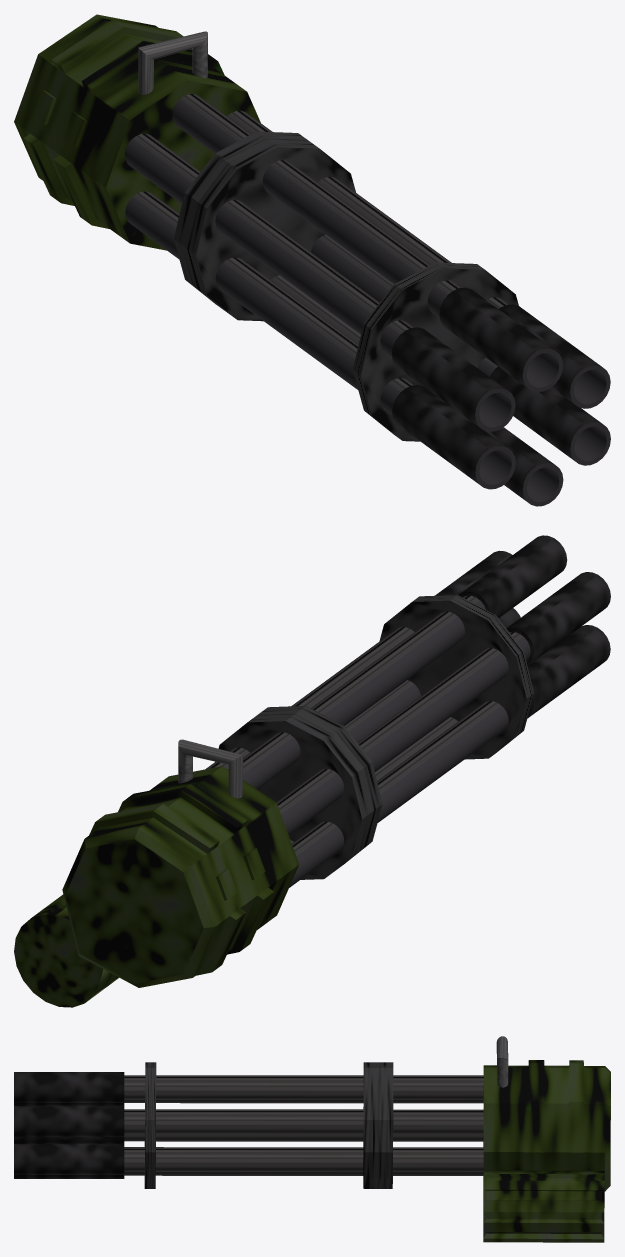
The model's file is Minigun.fbx.
3 views of the same model, one above another, from view 1: azimuth 30°, elevation 25°; view 2: azimuth 150°, elevation 25°; view 3: azimuth 270°, elevation 25° (orthographic). The views are drawn at different scales.
Visible parts, largest first — view 1: Body, Barrel1, Barrel5, Barrel4, FirstSupport, SecondSupport, Barrel3, Barrel2, Barrel6, Handle; view 2: Body, Barrel1, Barrel5, Barrel4, FirstSupport, SecondSupport, Magazine, Barrel2, Barrel3, Handle, Barrel6; view 3: Body, Barrel2, Barrel5, Barrel3, Magazine, FirstSupport, Barrel4, Barrel6, Barrel1, SecondSupport, Handle.
Boxes of the visible parts, bbox=[...] form: Body: bbox=[14, 14, 260, 250]; Barrel1: bbox=[125, 133, 515, 431]; Barrel5: bbox=[172, 94, 563, 391]; Barrel4: bbox=[125, 191, 515, 489]; FirstSupport: bbox=[174, 131, 355, 321]; SecondSupport: bbox=[352, 262, 518, 441]; Barrel3: bbox=[311, 235, 610, 465]; Barrel2: bbox=[227, 110, 610, 408]; Barrel6: bbox=[271, 275, 563, 506]; Handle: bbox=[138, 31, 207, 94]; Body: bbox=[62, 766, 299, 987]; Barrel1: bbox=[276, 572, 610, 835]; Barrel5: bbox=[228, 535, 567, 789]; Barrel4: bbox=[289, 625, 610, 887]; FirstSupport: bbox=[218, 706, 382, 879]; SecondSupport: bbox=[379, 595, 533, 759]; Magazine: bbox=[14, 894, 118, 1007]; Barrel2: bbox=[205, 550, 512, 769]; Barrel3: bbox=[344, 608, 520, 742]; Handle: bbox=[178, 739, 243, 798]; Barrel6: bbox=[290, 717, 457, 843]; Body: bbox=[483, 1060, 610, 1191]; Barrel2: bbox=[14, 1106, 483, 1136]; Barrel5: bbox=[14, 1072, 483, 1102]; Barrel3: bbox=[14, 1144, 483, 1174]; Magazine: bbox=[483, 1170, 604, 1242]; FirstSupport: bbox=[363, 1062, 393, 1188]; Barrel4: bbox=[14, 1134, 483, 1143]; Barrel6: bbox=[14, 1171, 483, 1178]; Barrel1: bbox=[14, 1100, 483, 1106]; SecondSupport: bbox=[144, 1062, 156, 1188]; Handle: bbox=[496, 1036, 508, 1087].
Bounding box in the file's own units: 0.0272 × 0.0284 × 0.0939.
1 material, 1 textured.
